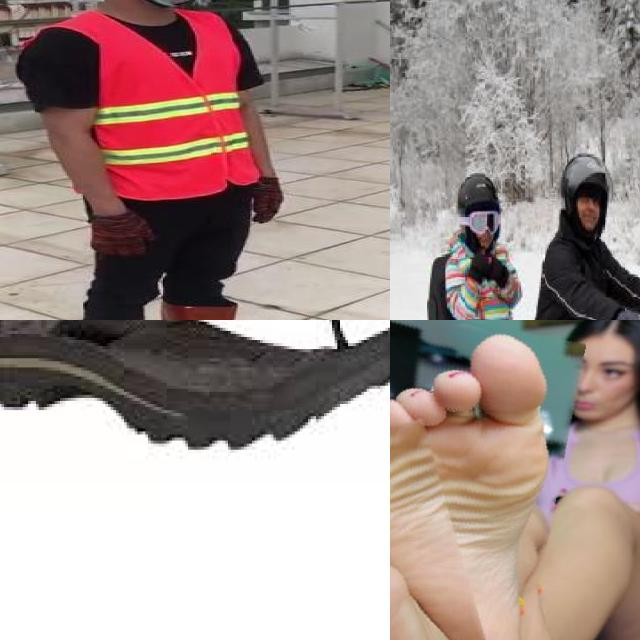Barefoots: (390, 320, 572, 640)
Sandals: (0, 320, 390, 539)
boots: (159, 299, 283, 320)
face_nomask: (577, 191, 605, 229)
glasses: (455, 208, 502, 238)
hand_glove: (86, 211, 158, 259), (252, 176, 282, 223), (466, 252, 490, 283), (489, 258, 510, 285)
head_helmet: (558, 147, 616, 203), (452, 169, 506, 215)
person: (11, 0, 319, 320), (520, 139, 640, 320), (432, 162, 541, 320)
vest: (80, 12, 253, 195)
